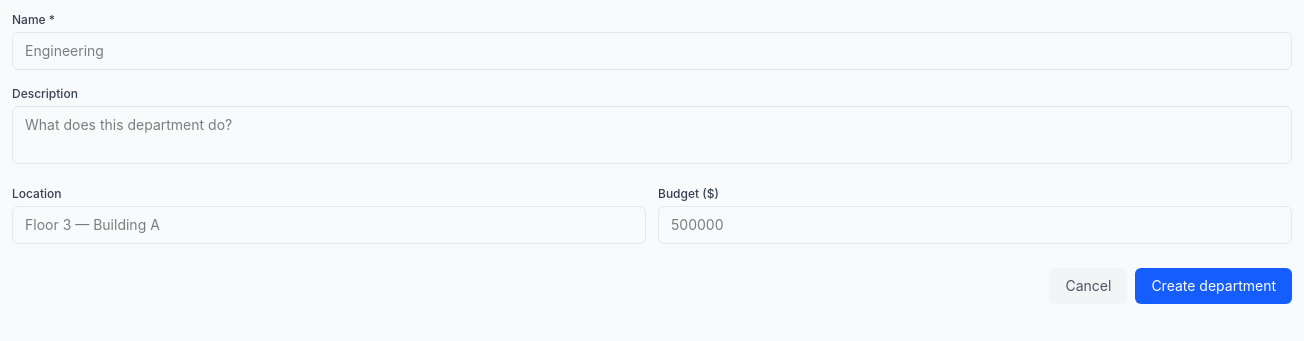
Test: DepartmentForm › shows validation error when name is empty
Click the button "Create department" at (1214, 286), box left=1135, top=268, right=1292, bottom=304
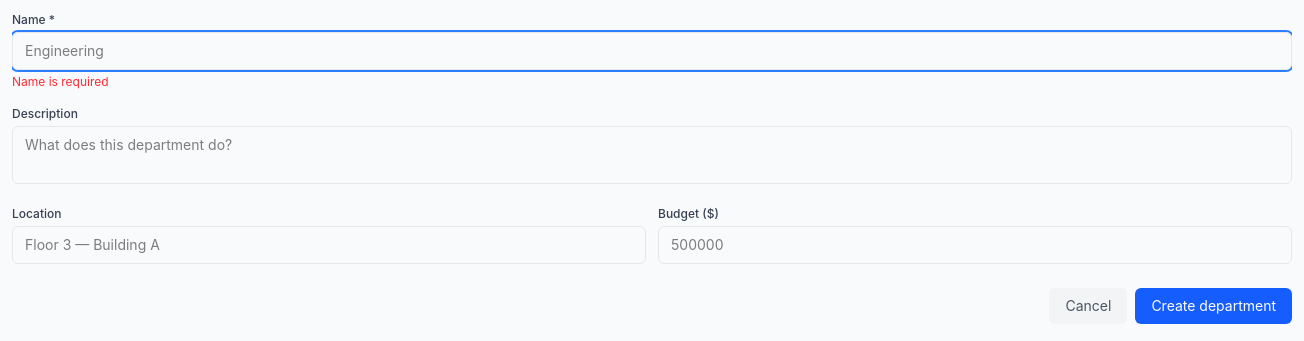
Check: the text "Name is required" is shown, box left=12, top=74, right=109, bottom=89
